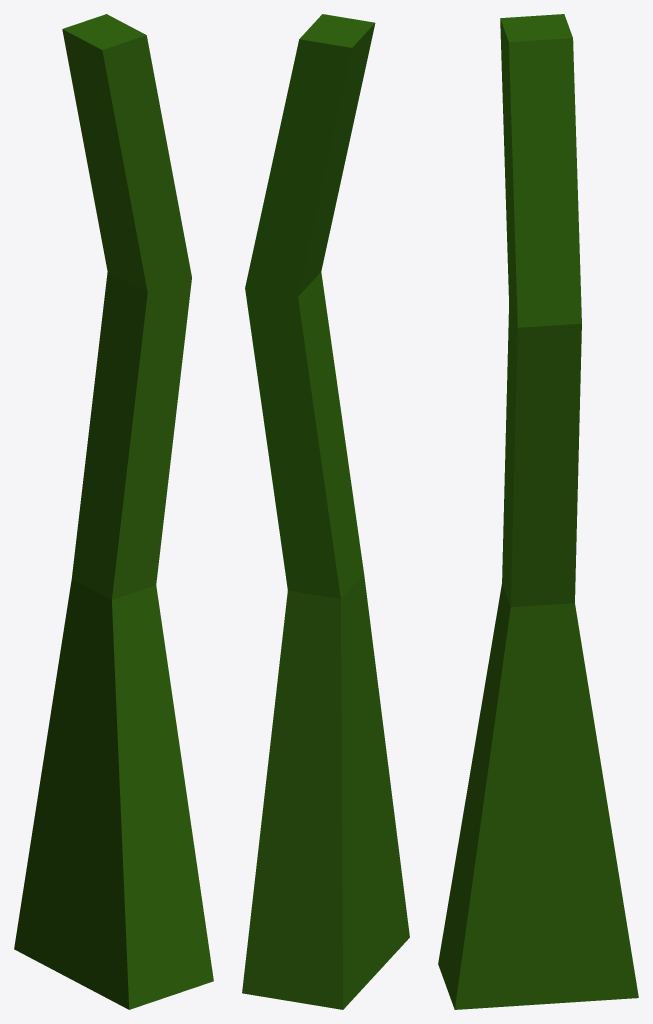
The model's file is g1-green.obj.
The picture shows the model from 3 angles, left to right: view 1: azimuth 30°, elevation 25°; view 2: azimuth 150°, elevation 25°; view 3: azimuth 270°, elevation 25°; orthographic projection.
Visible parts, largest first — view 1: g1-green_Cube.004; view 2: g1-green_Cube.004; view 3: g1-green_Cube.004.
Part boxes in pixels (<box>): g1-green_Cube.004: <box>14,14,213,1009</box>; g1-green_Cube.004: <box>242,14,409,1009</box>; g1-green_Cube.004: <box>438,14,638,1009</box>.
Size of the model in its own units: 0.2881 by 2.04 by 0.3915.
